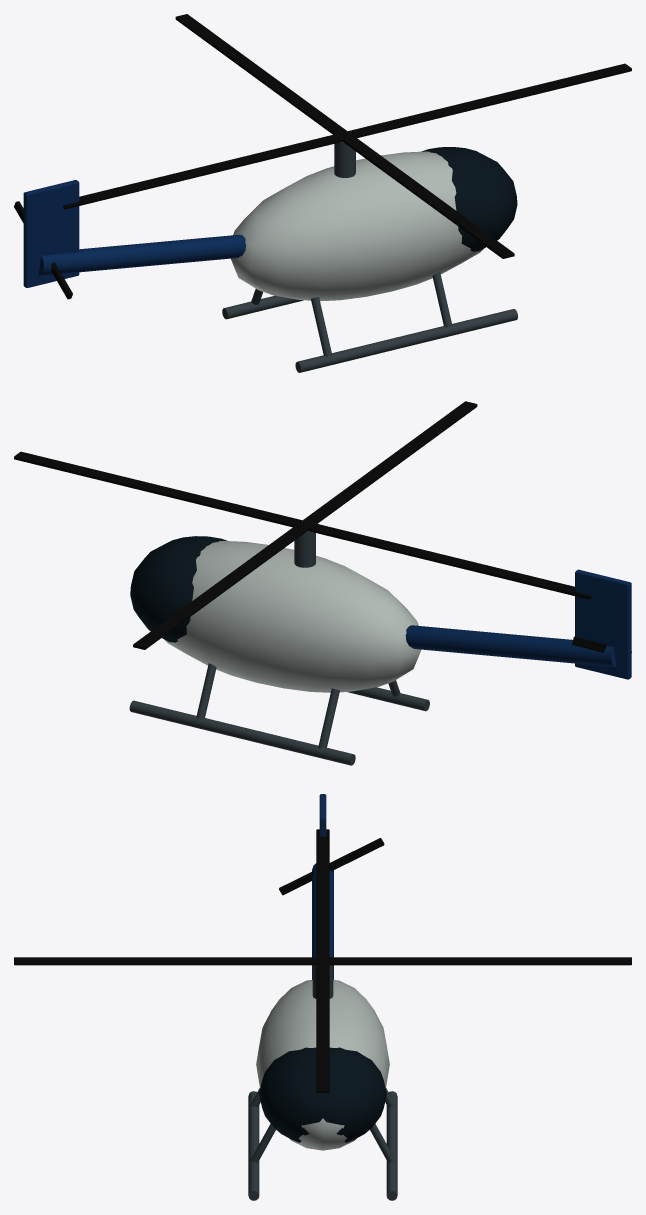
Rendered from Helicopter.fbx.
3 renders of one model, top to bottom at view 1: azimuth 30°, elevation 25°; view 2: azimuth 150°, elevation 25°; view 3: azimuth 270°, elevation 25°, orthographic. The views are drawn at different scales.
Visible parts, largest first — view 1: Helicopter; view 2: Helicopter; view 3: Helicopter.
Part boxes in pixels (<box>): Helicopter: <box>14,14,631,372</box>; Helicopter: <box>14,401,631,765</box>; Helicopter: <box>14,794,631,1200</box>.
Size of the model in its own units: 905 by 850 by 301.
